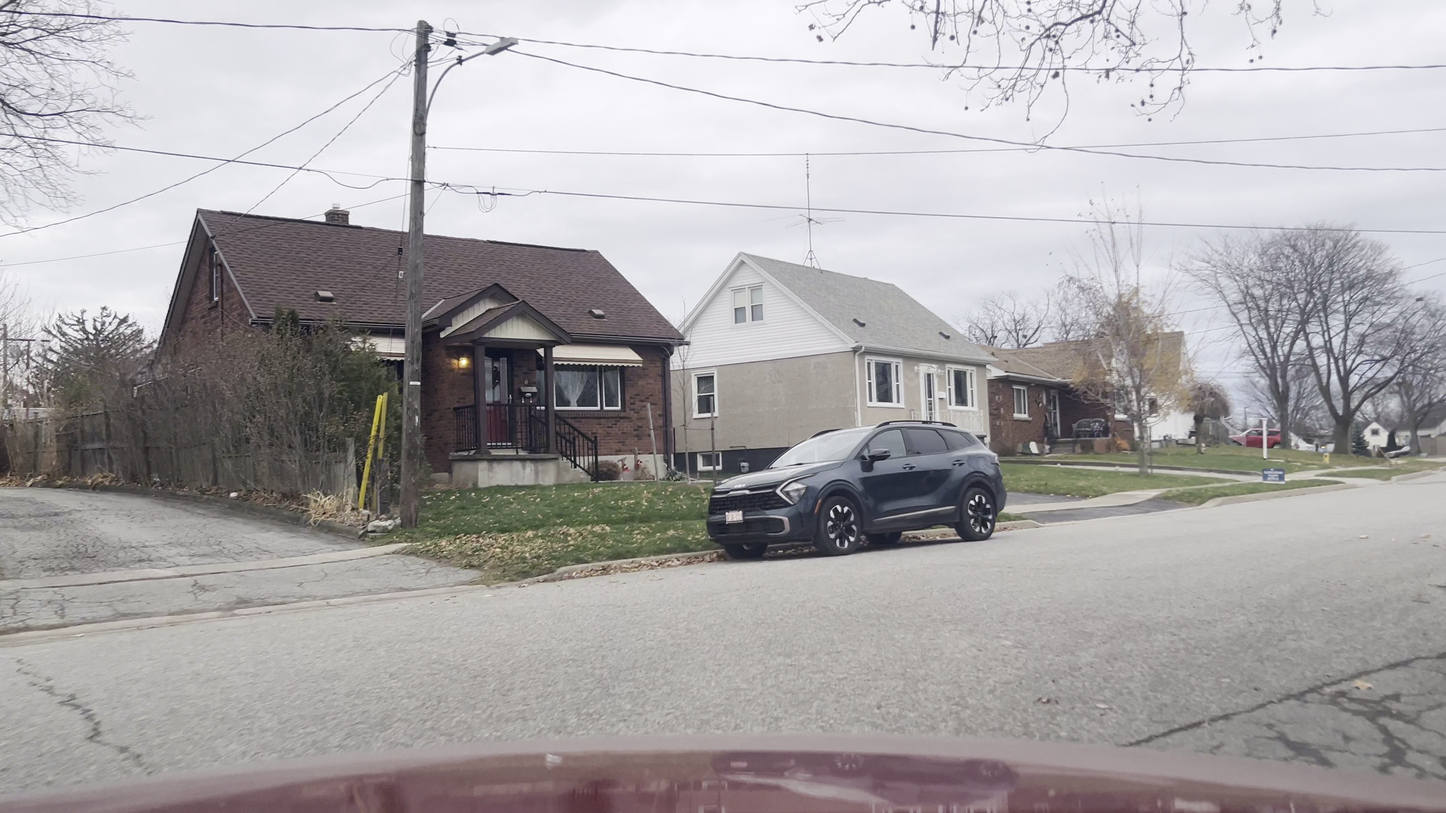cracks: (1297, 667, 1443, 782)
